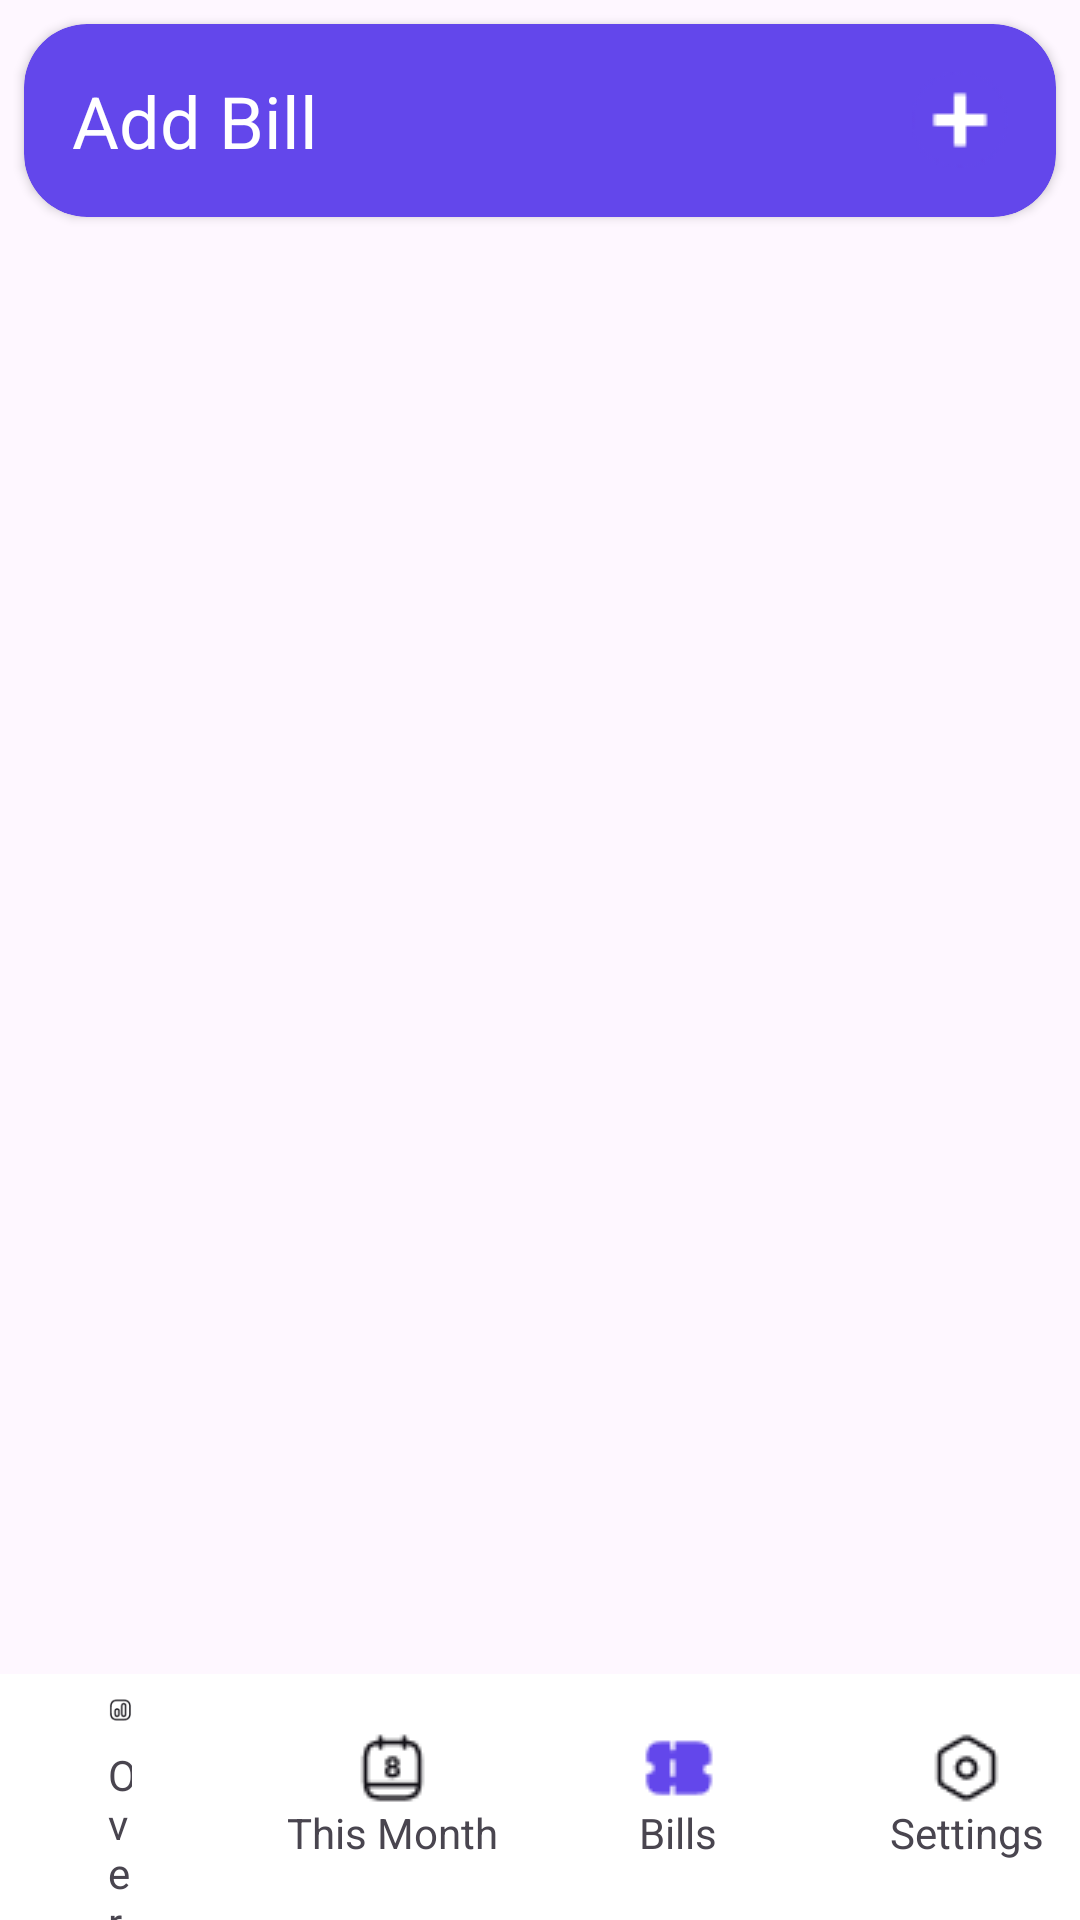

Screen size 1080px x 1920px. Icon name, then its box in pixels as Rect(x1, y1, x2, y2):
plus: Rect(932, 92, 988, 148)
